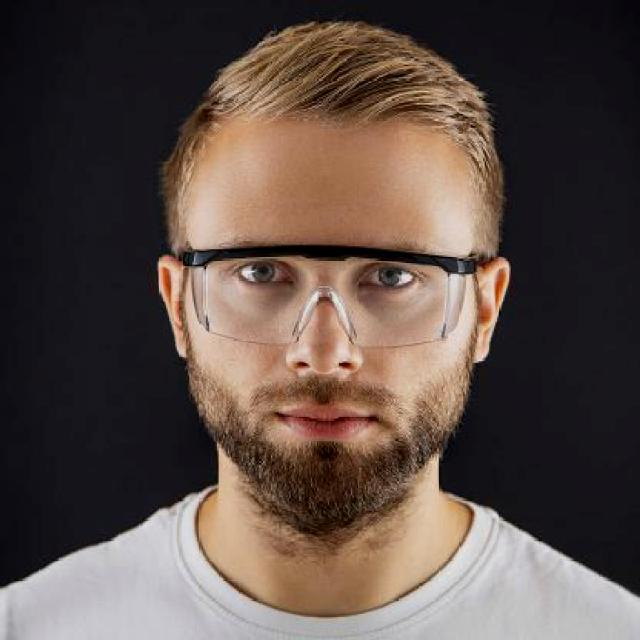face_nomask: (224, 241, 439, 448)
glasses: (182, 241, 488, 350)
head_nohelmet: (178, 10, 497, 173)
person: (0, 26, 636, 640)
